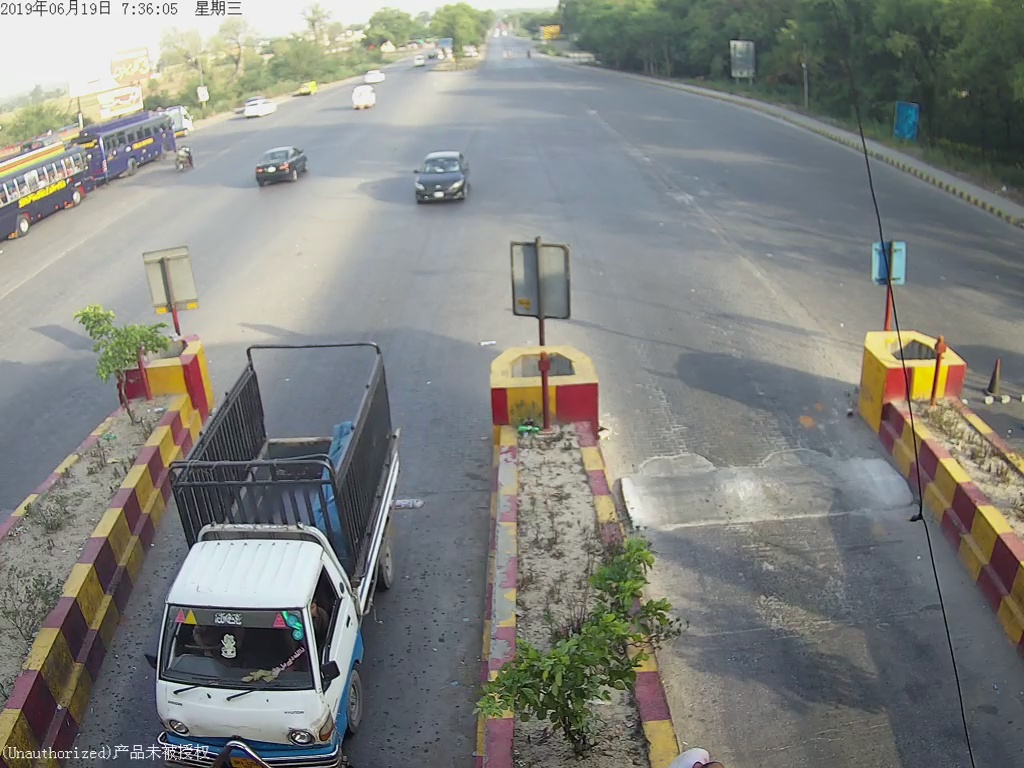Cat-1: (404, 147, 478, 212)
Cat-2: (156, 390, 417, 742)
